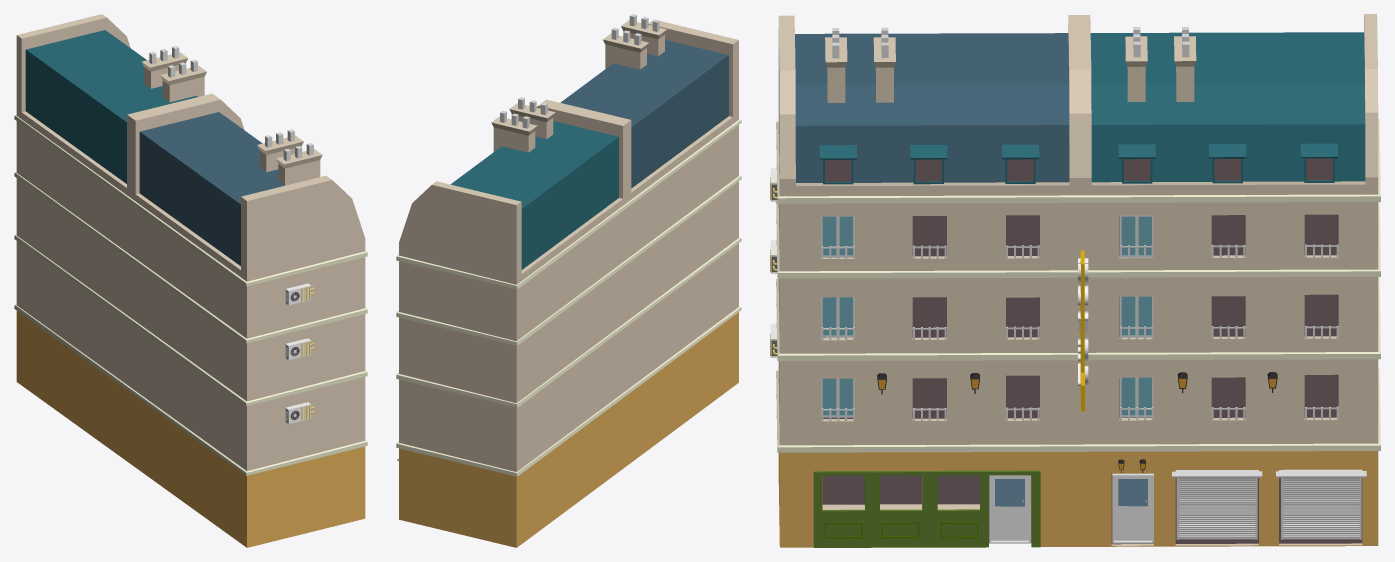
File: hotel_02_tran.glb
The picture shows the model from 3 angles, left to right: view 1: azimuth 30°, elevation 25°; view 2: azimuth 150°, elevation 25°; view 3: azimuth 270°, elevation 25°; orthographic projection. The views are drawn at different scales.
Visible parts, largest first — view 1: Cube.2278, Cube.2287, Cube.2290, Cube.2288, Cube.2289, Cube.2302, Cube.2303, Cube.2304, Cube.2301, Cube.13792, Cube.13794, Cube.13793; view 2: Cube.2278, Cube.2289, Cube.2288, Cube.2290, Cube.2287, Cube.2301, Cube.2304, Cube.2302, Cube.2303; view 3: Cube.2278, Cube.2284, Shutter_4.008, Shutter_4.007, Cube.2290, Cube.2287, Cube.2288, Cube.2289, Plane.1812, Plane.1813, Door_9.006, Door_9.005 (+11 smaller).
Boxes of the visible parts, <box> form: Cube.2278: <box>16,14,365,547</box>; Cube.2287: <box>14,304,367,475</box>; Cube.2290: <box>14,115,367,286</box>; Cube.2288: <box>14,234,367,405</box>; Cube.2289: <box>14,172,367,343</box>; Cube.2302: <box>160,65,206,102</box>; Cube.2303: <box>276,149,322,185</box>; Cube.2304: <box>257,135,303,171</box>; Cube.2301: <box>142,52,188,88</box>; Cube.13792: <box>285,338,314,360</box>; Cube.13794: <box>285,402,313,424</box>; Cube.13793: <box>285,283,313,305</box>; Cube.2278: <box>399,19,738,547</box>; Cube.2289: <box>396,175,741,345</box>; Cube.2288: <box>396,237,741,407</box>; Cube.2290: <box>396,119,741,289</box>; Cube.2287: <box>396,306,741,476</box>; Cube.2301: <box>491,116,537,152</box>; Cube.2304: <box>603,33,648,69</box>; Cube.2302: <box>509,103,555,139</box>; Cube.2303: <box>621,20,666,55</box>; Cube.2278: <box>778,14,1378,547</box>; Cube.2284: <box>813,470,1040,547</box>; Shutter_4.008: <box>1276,469,1366,539</box>; Shutter_4.007: <box>1172,470,1262,539</box>; Cube.2290: <box>776,119,1380,203</box>; Cube.2287: <box>776,368,1380,452</box>; Cube.2288: <box>776,277,1380,360</box>; Cube.2289: <box>776,201,1380,278</box>; Plane.1812: <box>821,216,854,417</box>; Plane.1813: <box>1120,215,1153,417</box>; Door_9.006: <box>1112,473,1153,543</box>; Door_9.005: <box>989,475,1030,543</box>.
Size of the model in its own units: 0.2564 by 0.5261 by 0.604.
